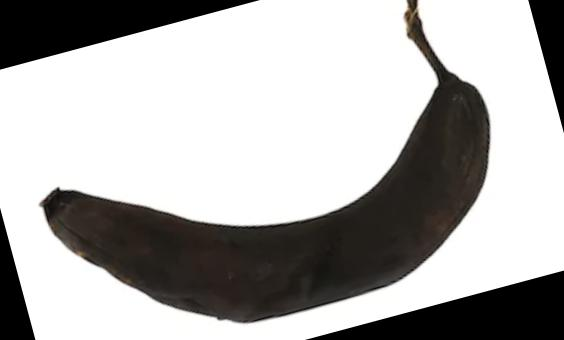Banana Overripe: (31, 29, 533, 329)
